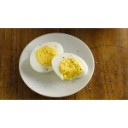begg: (51, 53, 89, 79)
